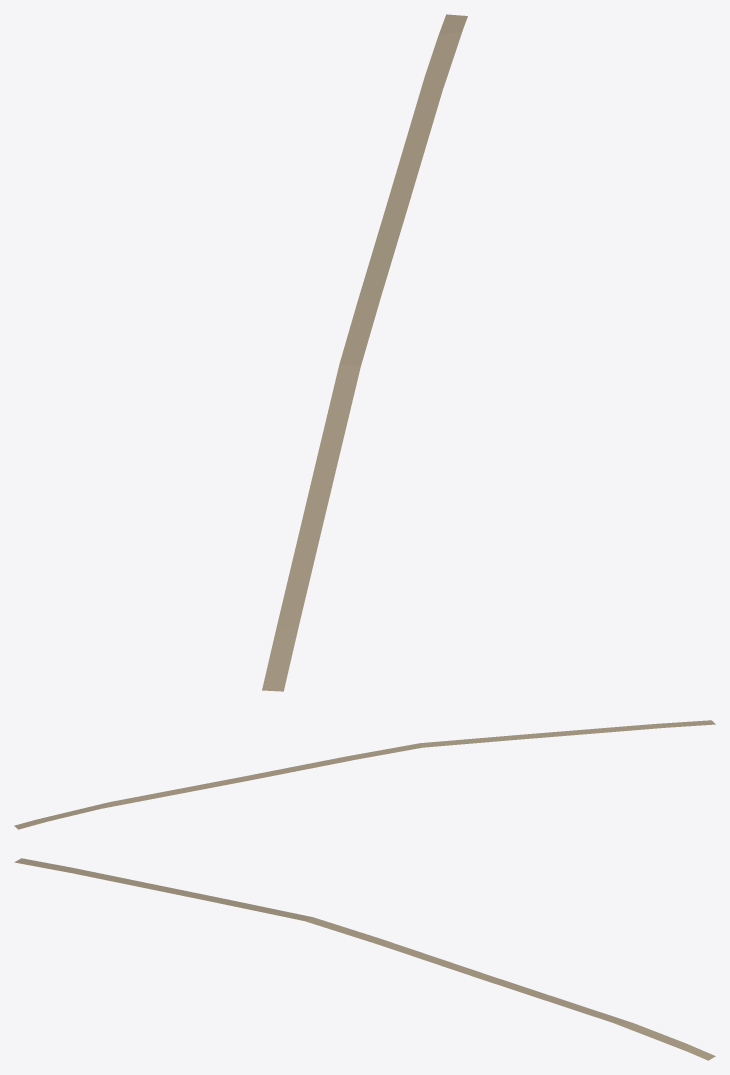
Rendered from farm_-20_-29_track.glb.
3 views of the same model, one above another, from view 1: azimuth 30°, elevation 25°; view 2: azimuth 150°, elevation 25°; view 3: azimuth 270°, elevation 25° (orthographic). The views are drawn at different scales.
Visible parts, largest first — view 1: geometry_0; view 2: geometry_0; view 3: geometry_0.
Boxes of the visible parts, x1,y1,x2,y2 form: geometry_0: (262, 14, 467, 691); geometry_0: (14, 720, 715, 829); geometry_0: (14, 858, 715, 1060).
Bounding box in the file's own units: 139 × 9.72 × 183.
